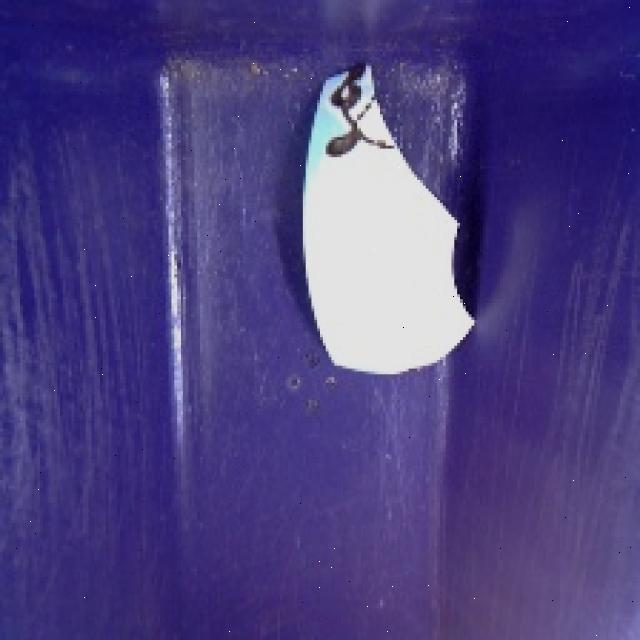china: (287, 56, 497, 390)
